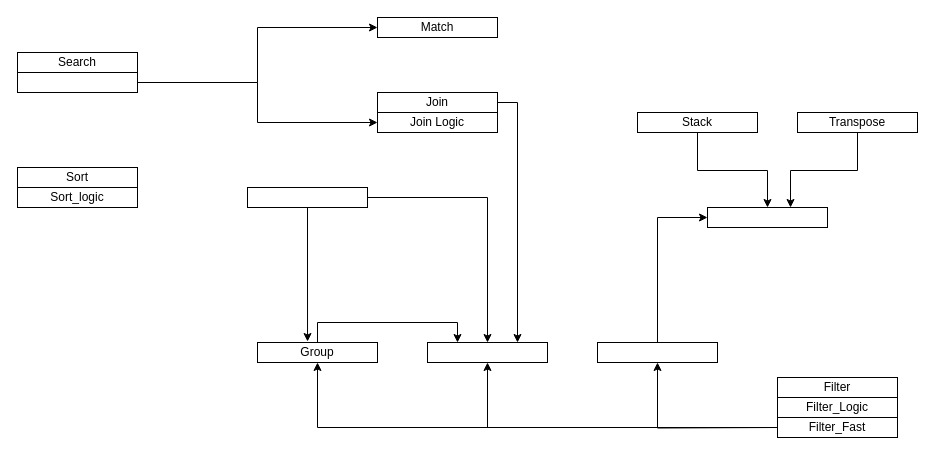
Image size: 935x455. Some labels were removed from this diagram. The centre of each missing label's shape, as x and y in pixels:
"Melt" goes at [767,217].
"Pivot" goes at [487,352].
"Search_Logic" goes at [77,82].
"SplitOnCol" goes at [657,352].
"Unique" goes at [307,197].
